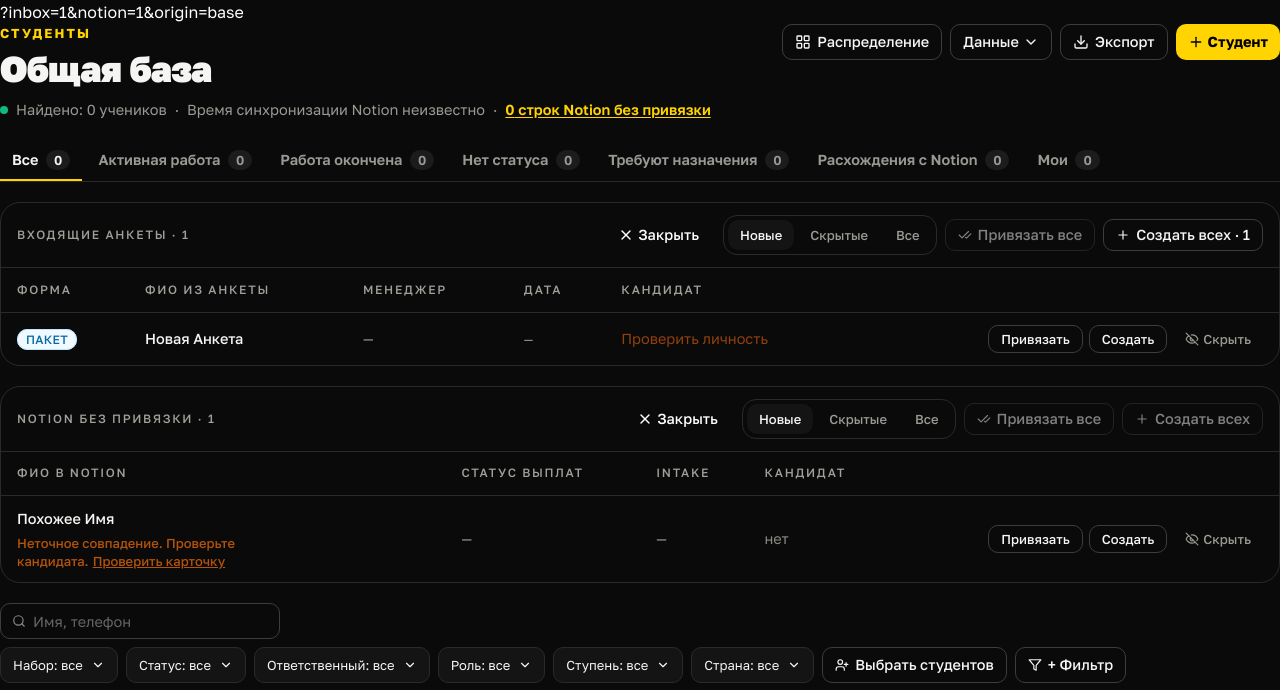
Test: closes each inbox separately and preserves unrelated URL filters
Expected: the text "Новая Анкета" is shown, [129,312,347,364]
Expected: the text "Похожее Имя" is shown, [17,510,114,527]
What coordinates should you click on to do the following:
click the button with aria-label "Закрыть: Входящие анкеты"
I would click on:
 (659, 235)
Its box is [606,217,711,253].
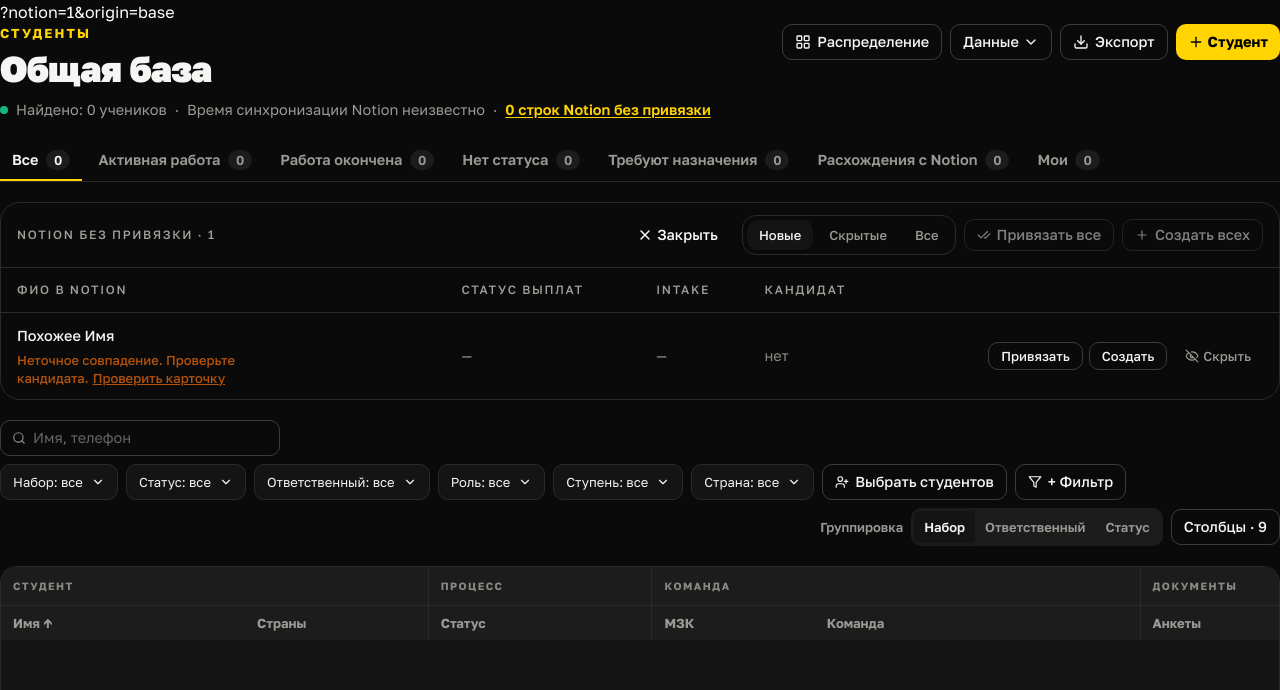
Expected: the text "Похожее Имя" is shown, [17,326,114,344]
Expected: the text "Новая Анкета" is gone
Expected: the text with test id "address" no longer shows "inbox=1", [0,2,174,22]
What coordinates should you click on to do the following:
click the button with aria-label "Закрыть: Notion без привязки"
I would click on:
 (678, 235)
Its box is [625,217,730,253].
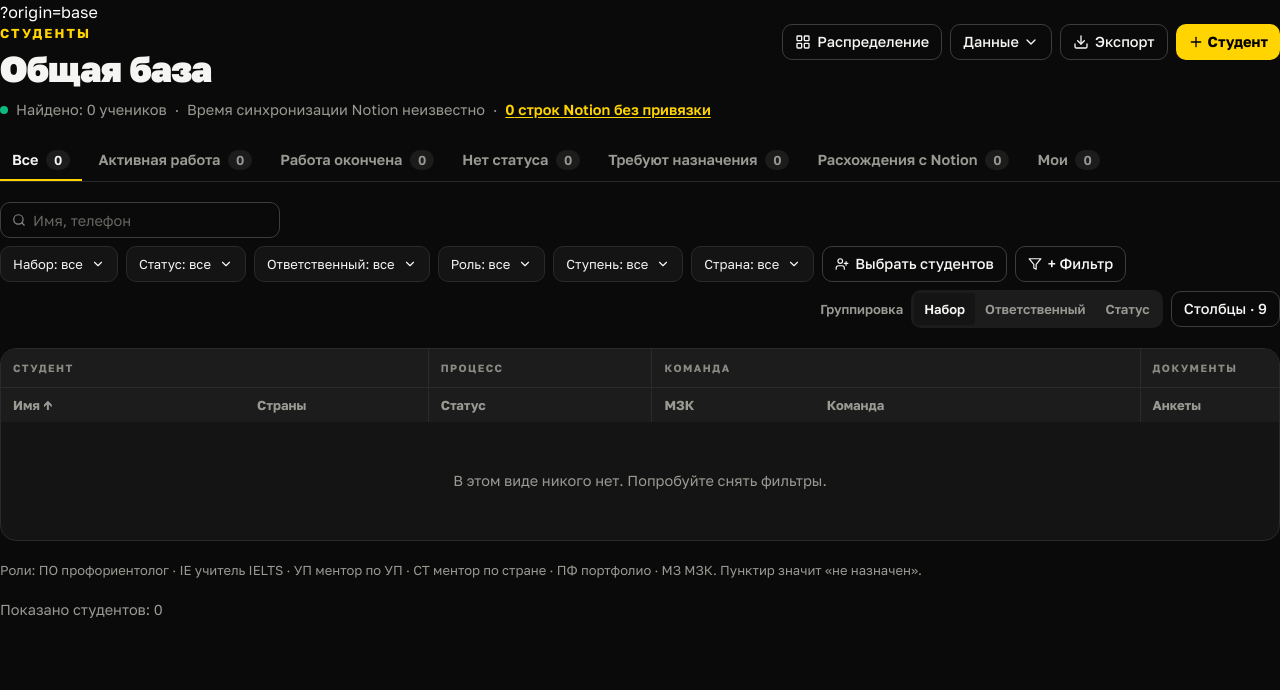
Expected: the text "Похожее Имя" is gone
Expected: the text with test id "address" reads "?origin=base", [0,2,98,22]
